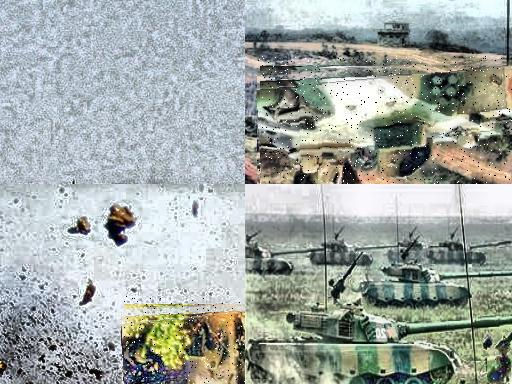tanks: (258, 65, 512, 185), (246, 303, 471, 384), (123, 310, 246, 384), (360, 263, 469, 307), (246, 233, 322, 274), (327, 228, 396, 266), (429, 229, 465, 266), (468, 242, 511, 266), (488, 349, 512, 380), (400, 229, 417, 265), (407, 240, 430, 263), (474, 317, 512, 330), (309, 245, 325, 266), (470, 272, 512, 278), (360, 255, 374, 266), (388, 251, 397, 265)
